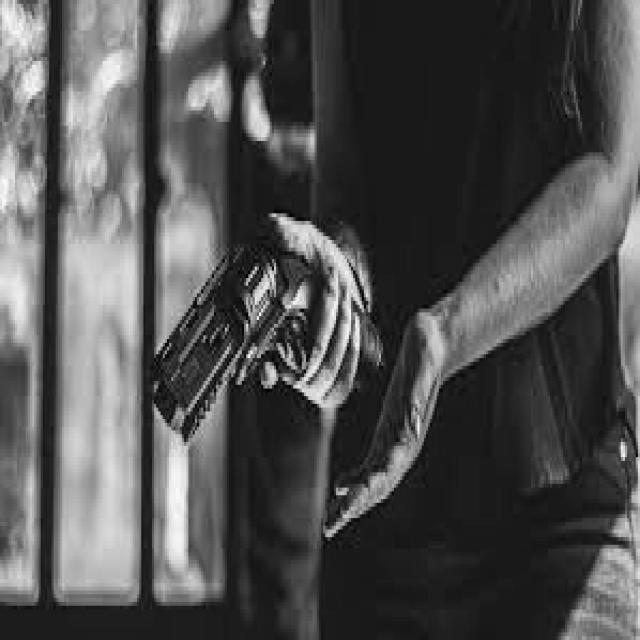handgun: (153, 232, 379, 459)
